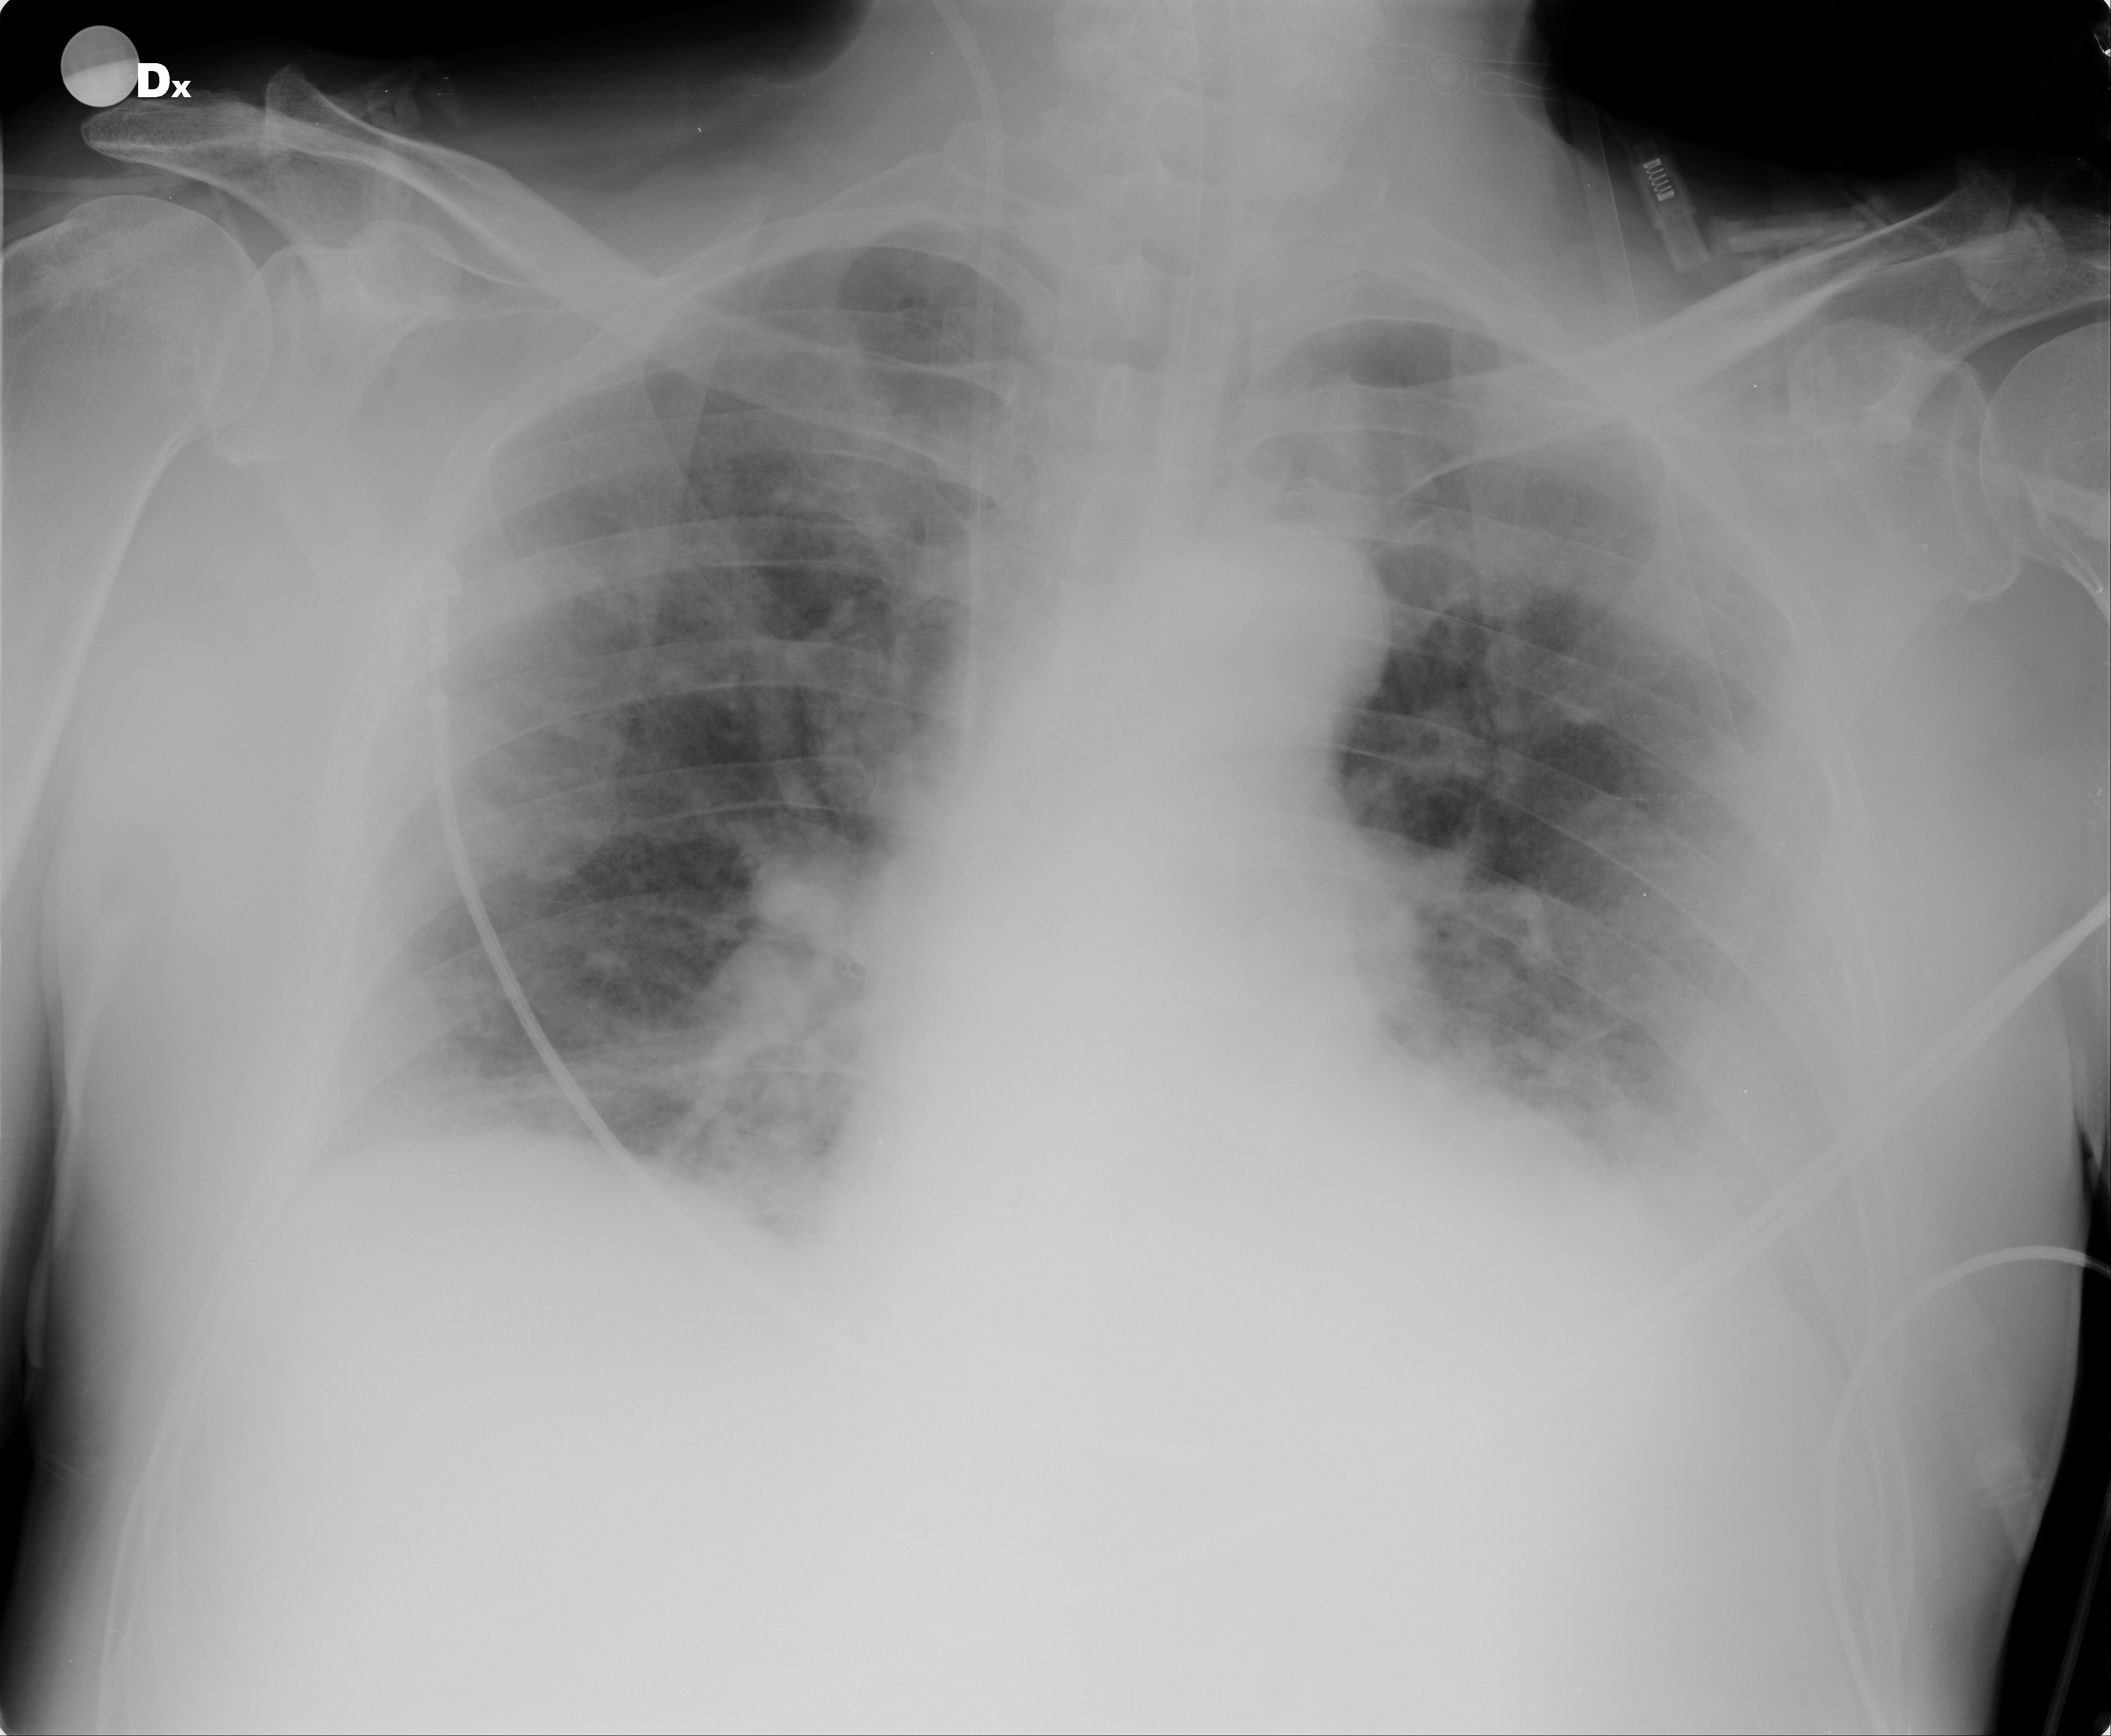Severe: (344, 207, 1038, 1196), (1310, 277, 1813, 1213)
